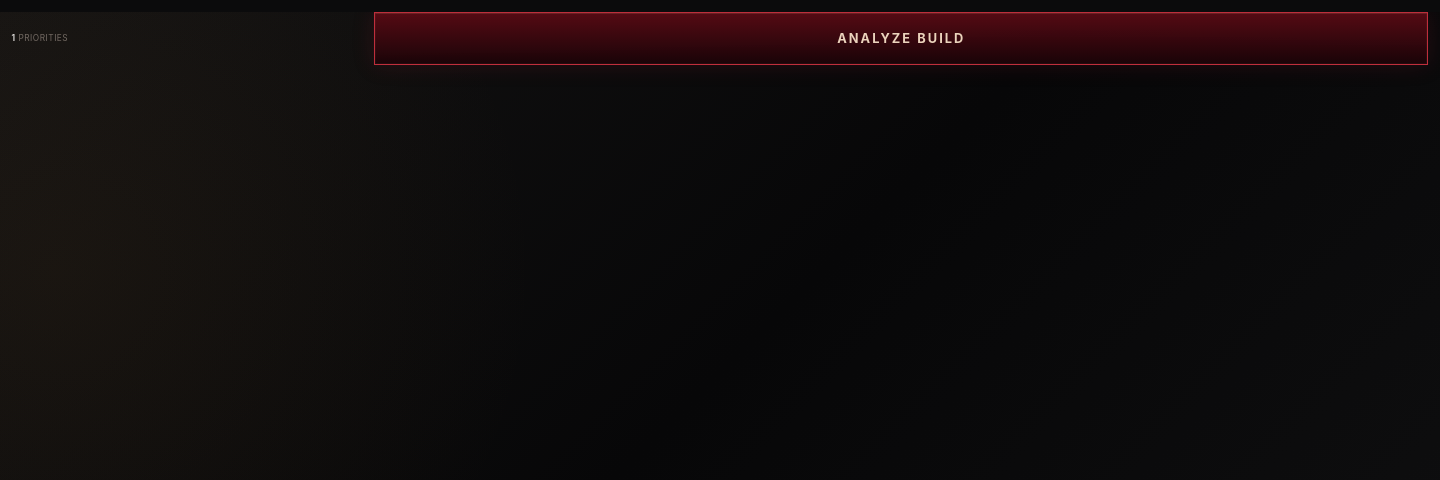
shows a live translated countdown by the disabled action, keeps it after a mode change and enables manual retry
Later steps or results of the test are not shown.
Click the button "ANALYZE BUILD". click: click(901, 38)
box: x1=374 y1=12 x2=1428 y2=65
Wait 1000 ms
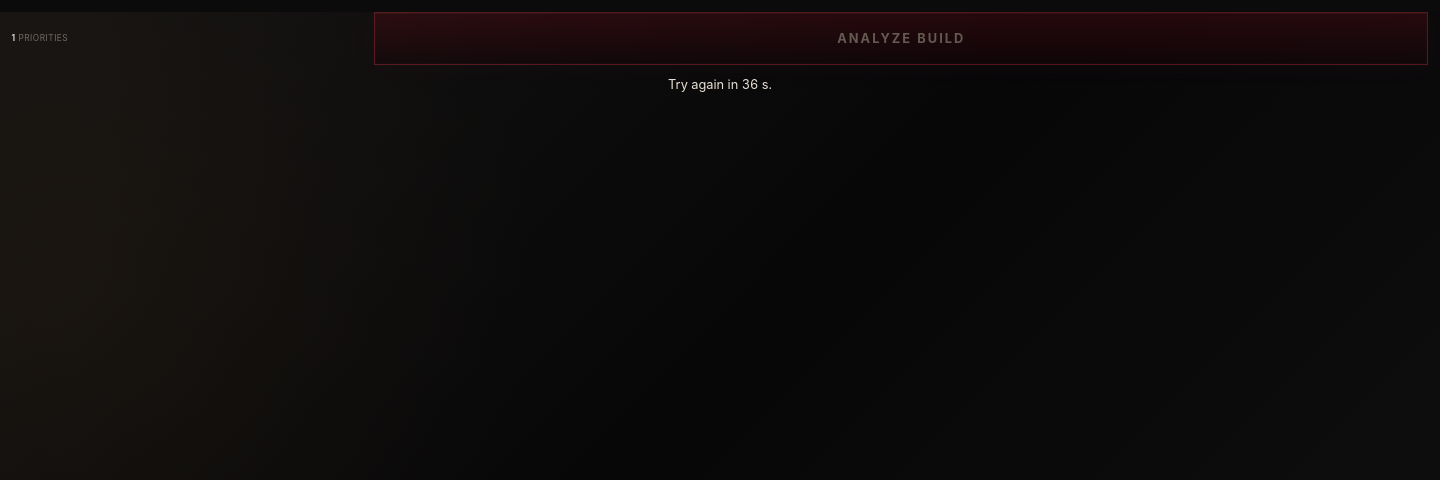
Expected: the button is disabled, x1=374 y1=12 x2=1428 y2=65
Expected: the text "Try again in 36 s." is shown, x1=668 y1=77 x2=772 y2=92
